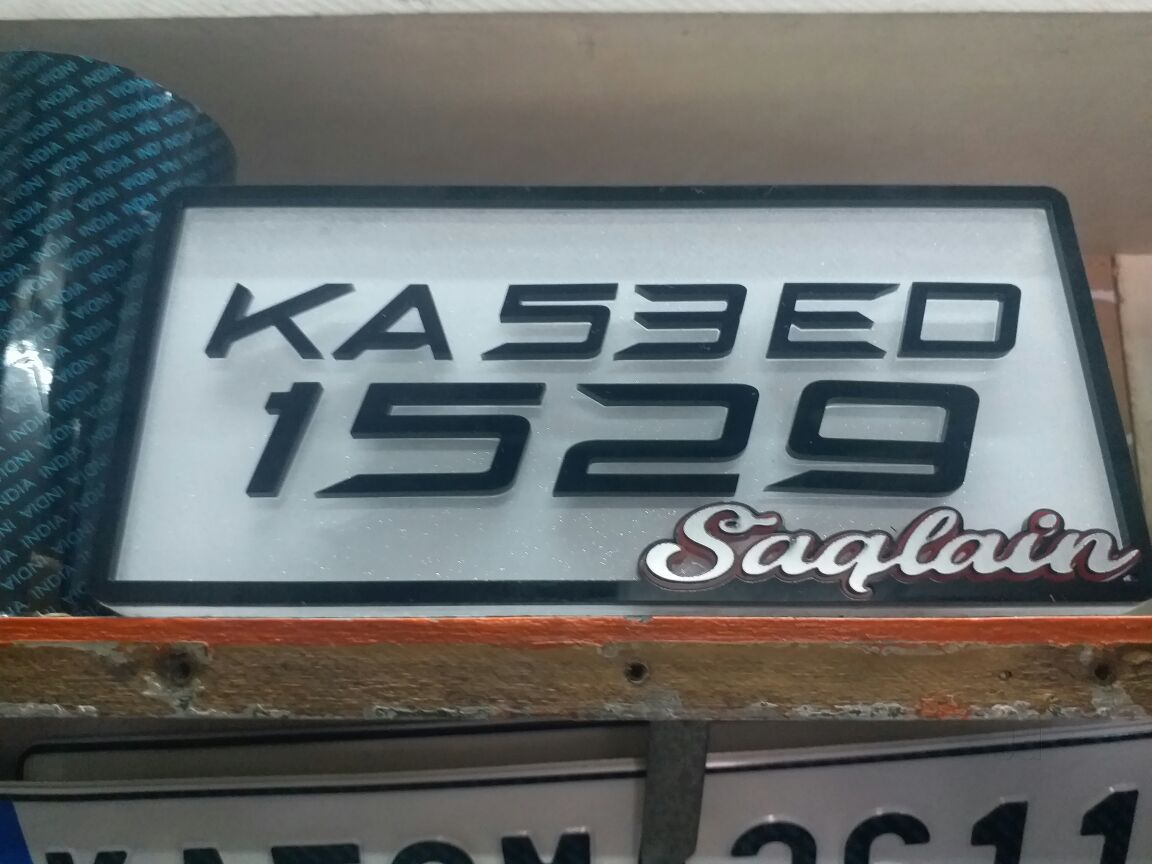number_plate: (113, 167, 1124, 504)
